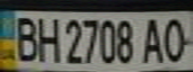0: (100, 16, 118, 65)
2: (60, 15, 84, 65)
7: (78, 16, 100, 65)
8: (115, 16, 139, 65)
A: (139, 15, 169, 64)
B: (9, 12, 42, 63)
H: (33, 13, 60, 64)
O: (157, 13, 190, 64)
